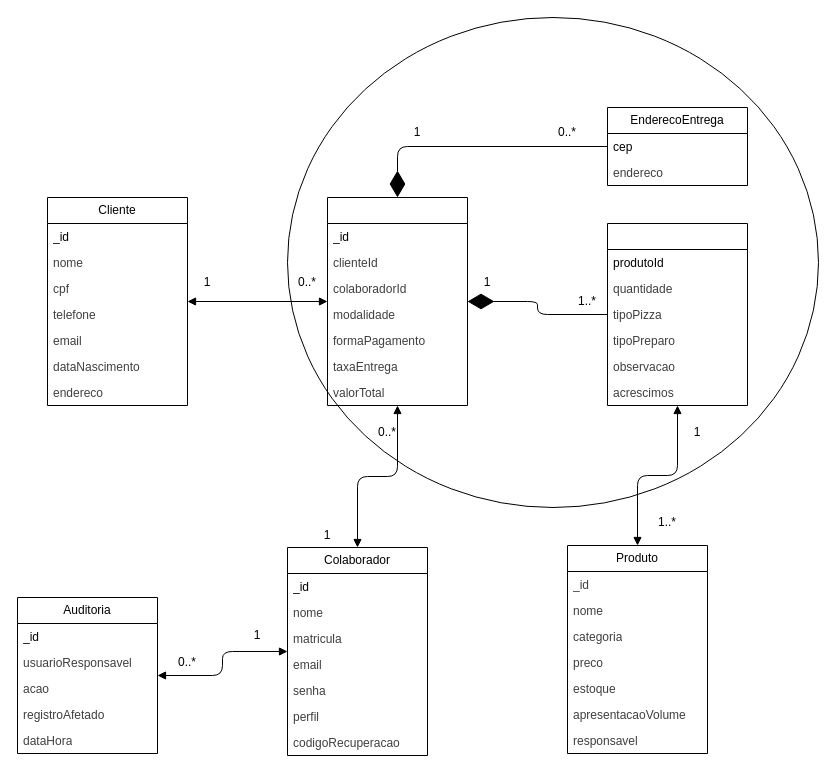
The diagram is 836 pixels wide and 776 high, and some of its shapes have lost their labels. Each missing label, with the box of its shape:
ItemPedido: (606, 222, 748, 406)
Pedido: (326, 196, 468, 406)
